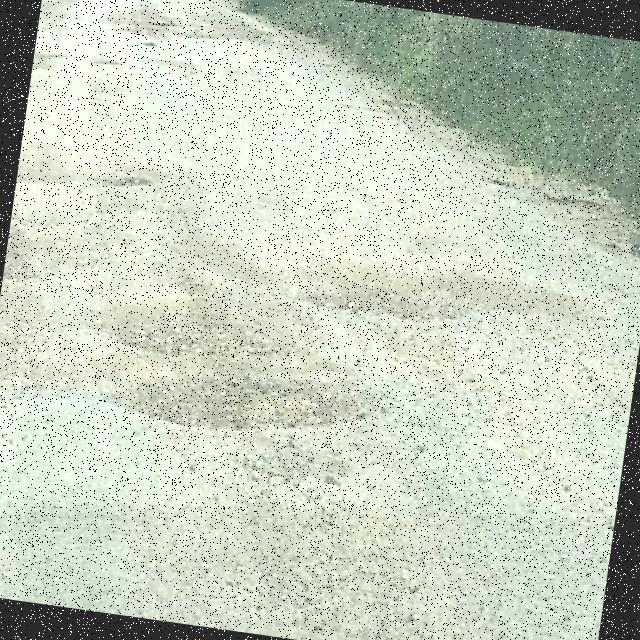Pothole: (115, 376, 358, 428), (109, 325, 290, 359), (306, 293, 454, 322), (97, 176, 152, 188)
